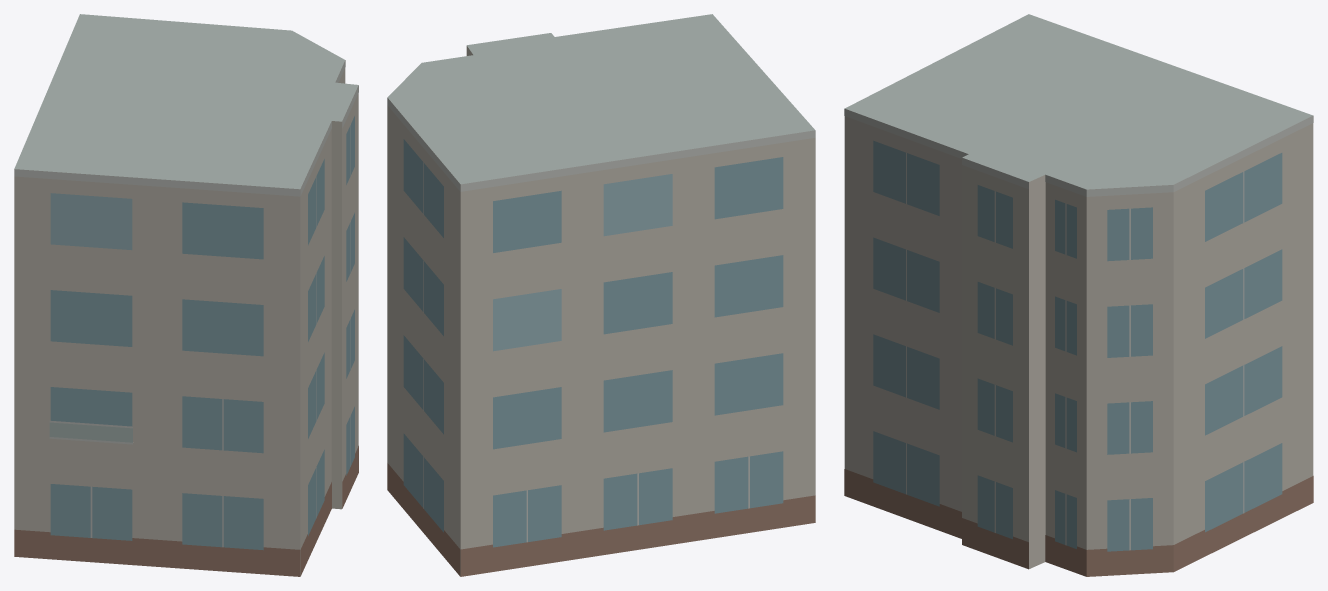
File: survey-upis-32674290.glb
3 renders of one model, left to right at view 1: azimuth 30°, elevation 25°; view 2: azimuth 150°, elevation 25°; view 3: azimuth 270°, elevation 25°, orthographic.
Visible parts, largest first — view 1: survey-upis-32674290.tmp; view 2: survey-upis-32674290.tmp; view 3: survey-upis-32674290.tmp.
Part boxes in pixels (left/top/right/bottom): survey-upis-32674290.tmp: left=14, top=14, right=358, bottom=576; survey-upis-32674290.tmp: left=387, top=14, right=815, bottom=576; survey-upis-32674290.tmp: left=844, top=14, right=1313, bottom=576.
Size of the model in its own units: 12.46 by 12.8 by 14.05.
